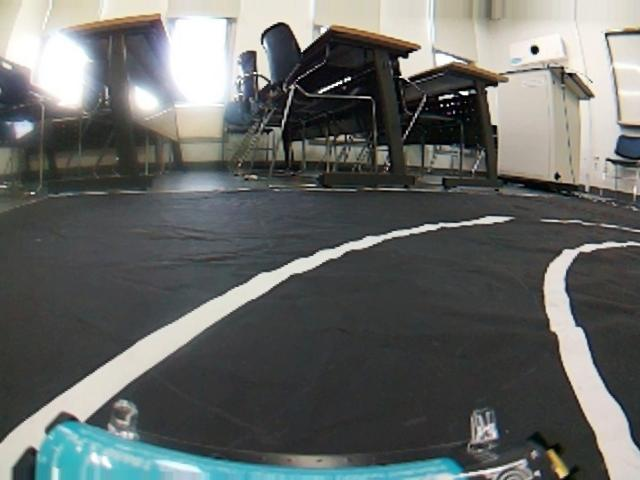right: (7, 212, 640, 479)
